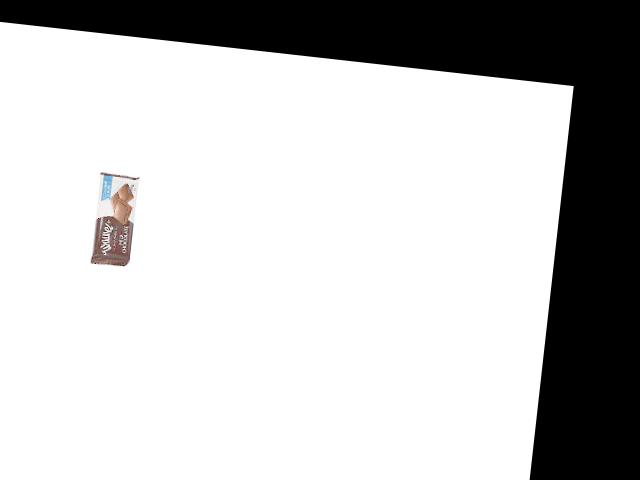chocolate: (88, 171, 141, 266)
